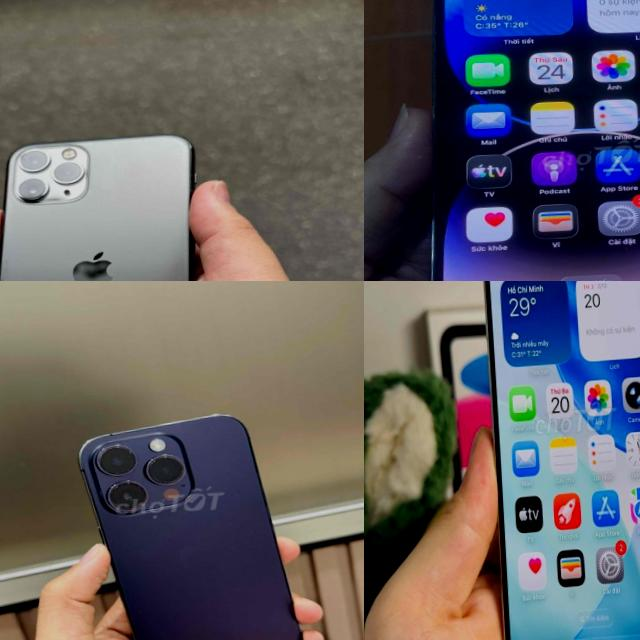gen_11: (0, 132, 224, 281)
gen_14: (400, 0, 640, 281), (77, 399, 312, 640)
gen_15: (459, 281, 640, 640)
